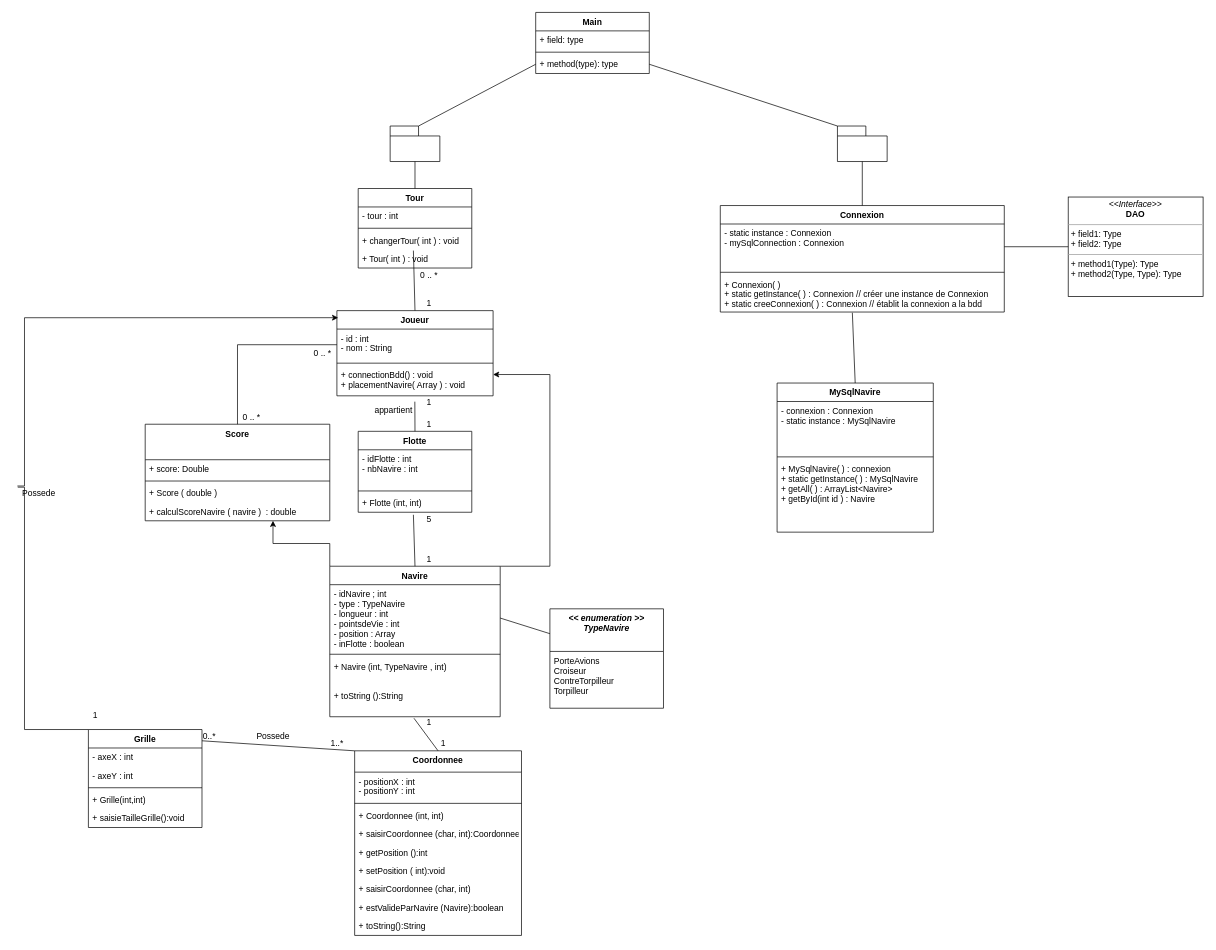
Image size: 1216x950. Some labels were removed from this diagram. Each missing label, with the centre of its shape:
"gameplay" belongs at point 414,143.
"sql" belongs at point 862,143.
